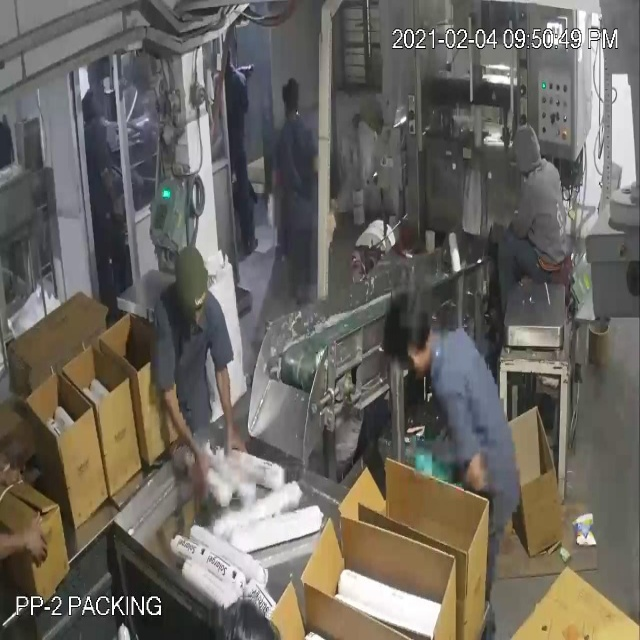Sin_guantes: (156, 373, 214, 492), (213, 348, 253, 475), (1, 519, 70, 576)
